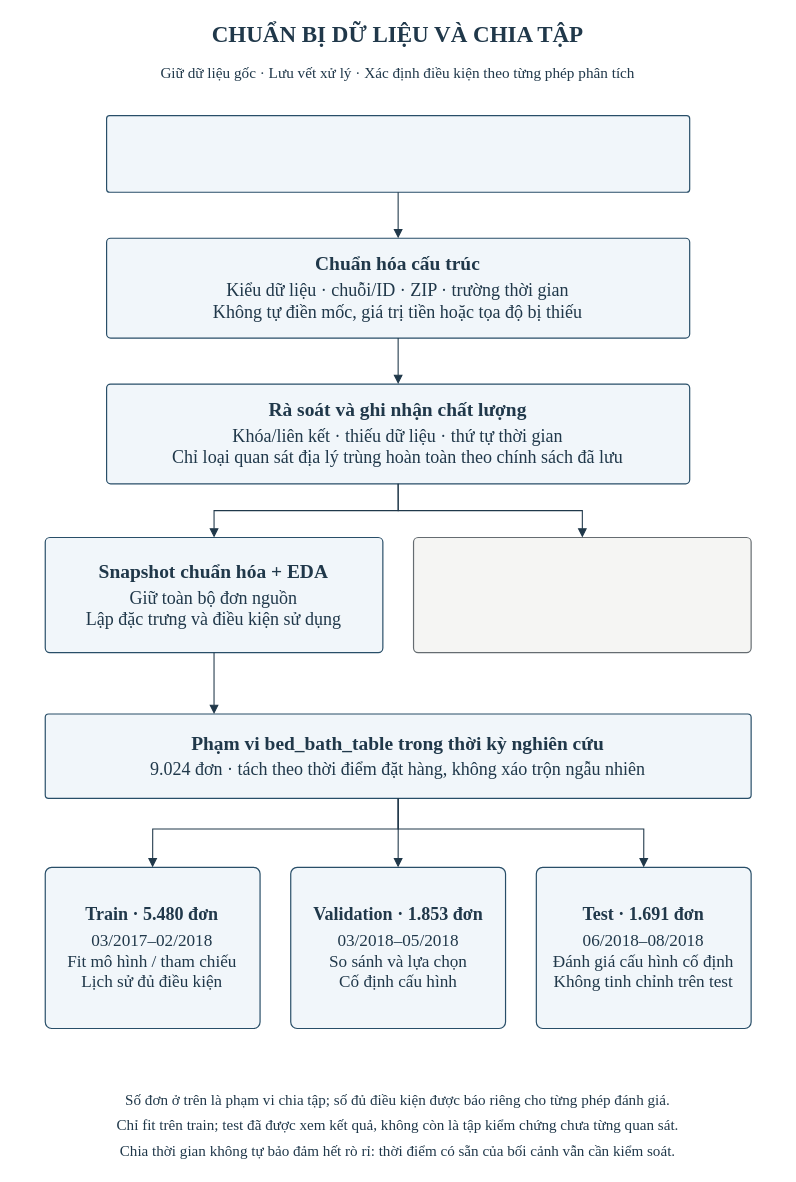
The diagram is 796 pixels wide and 1182 high, and some of its shapes have lost their labels. Each missing label, with the centre of its shape:
Chín bảng dữ liệu Olist gốc Giữ nguyên dữ liệu nguồn và dấu vết phiên bản: point (398, 153)
Hồ sơ đối chiếu Vị trí bản ghi · lý do · hành động Hash nguồn và kết quả: point (581, 594)
